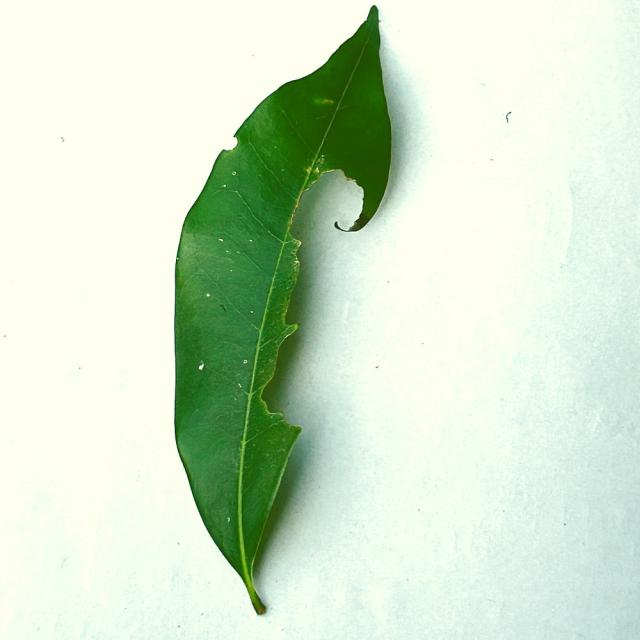Deficiency Leaf: (275, 175, 376, 430), (216, 132, 237, 155)
Lychee: (172, 8, 394, 616)
